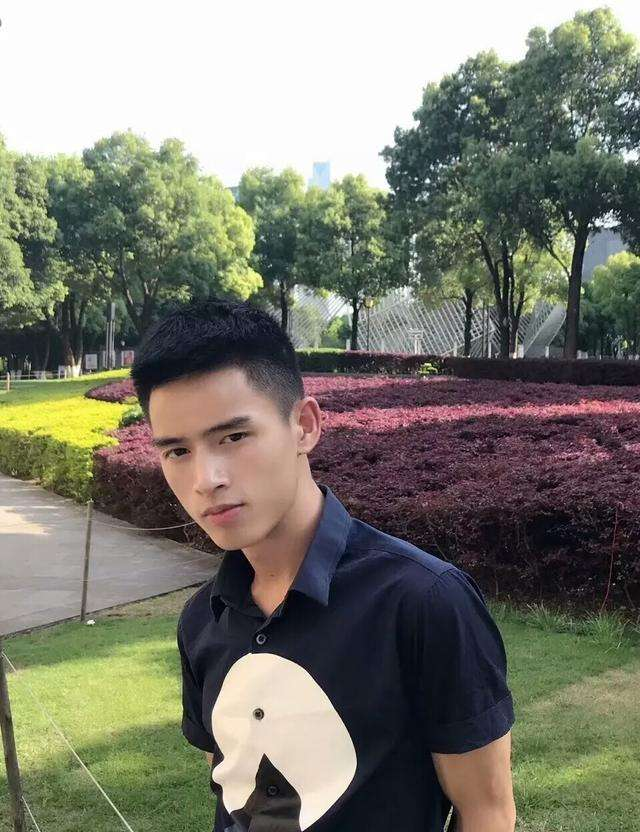person: (129, 281, 498, 832)
